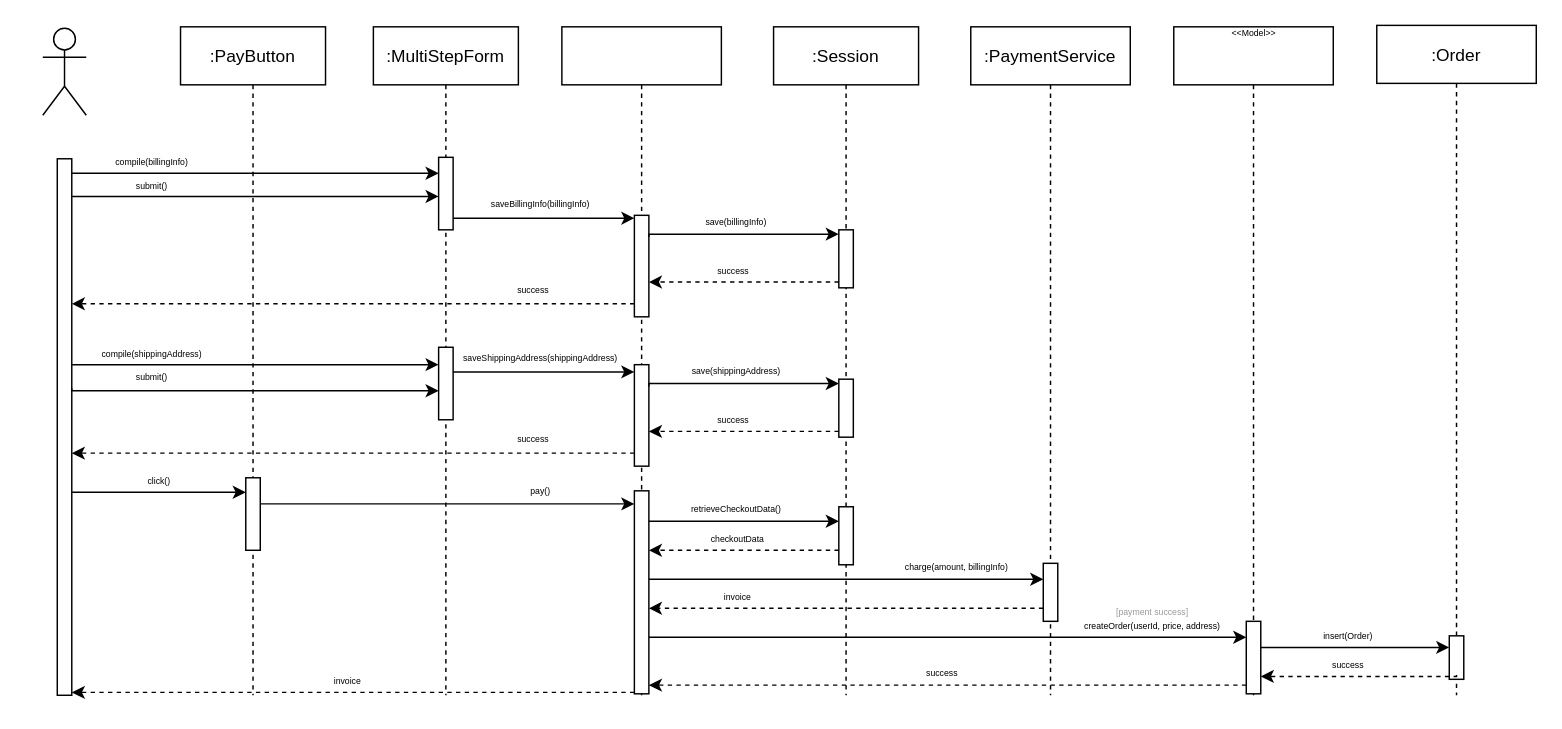
The diagram is 1562 pixels wide and 729 high, and some of its shapes have lost their labels. The box of each missing label's shape, as (x1, y1, x2, y2) in pixels:
:OrderService: (1172, 25, 1333, 695)
:PaymentController: (560, 25, 721, 695)
Registrato: (41, 27, 86, 115)
